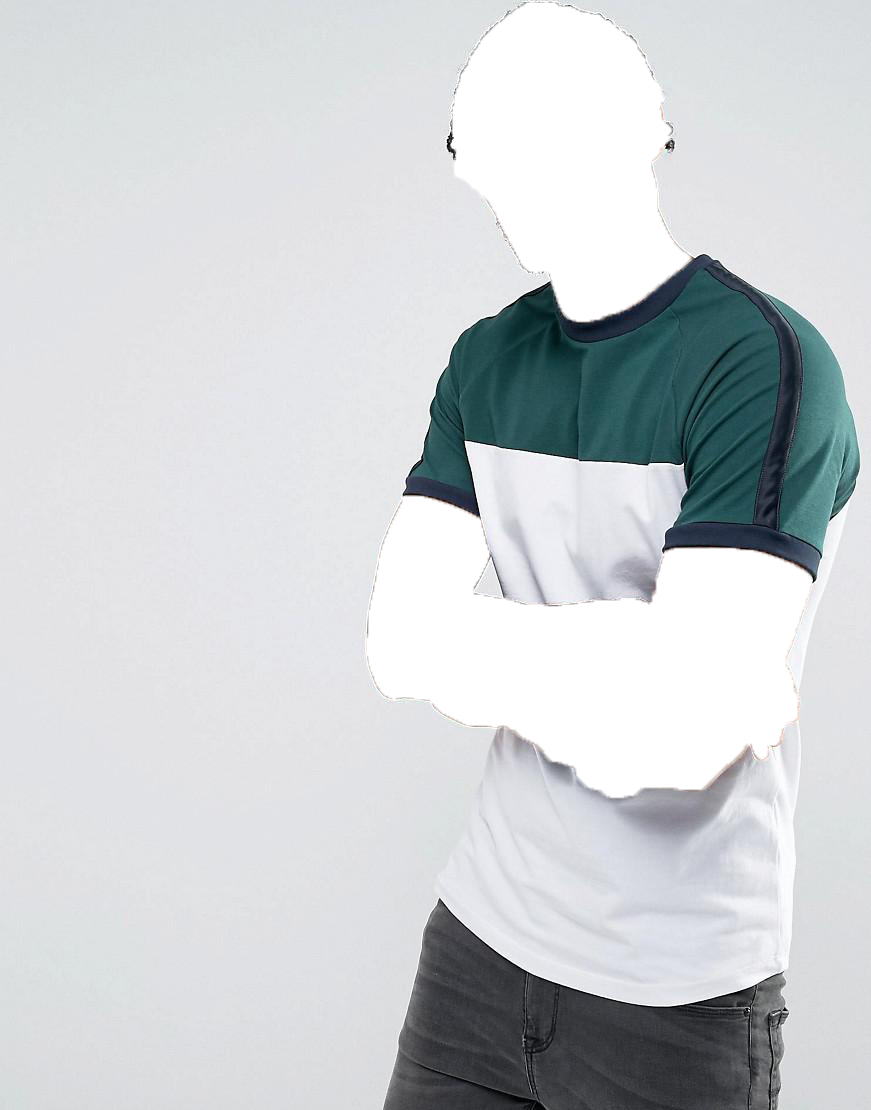teeshirt: (400, 254, 862, 1007)
